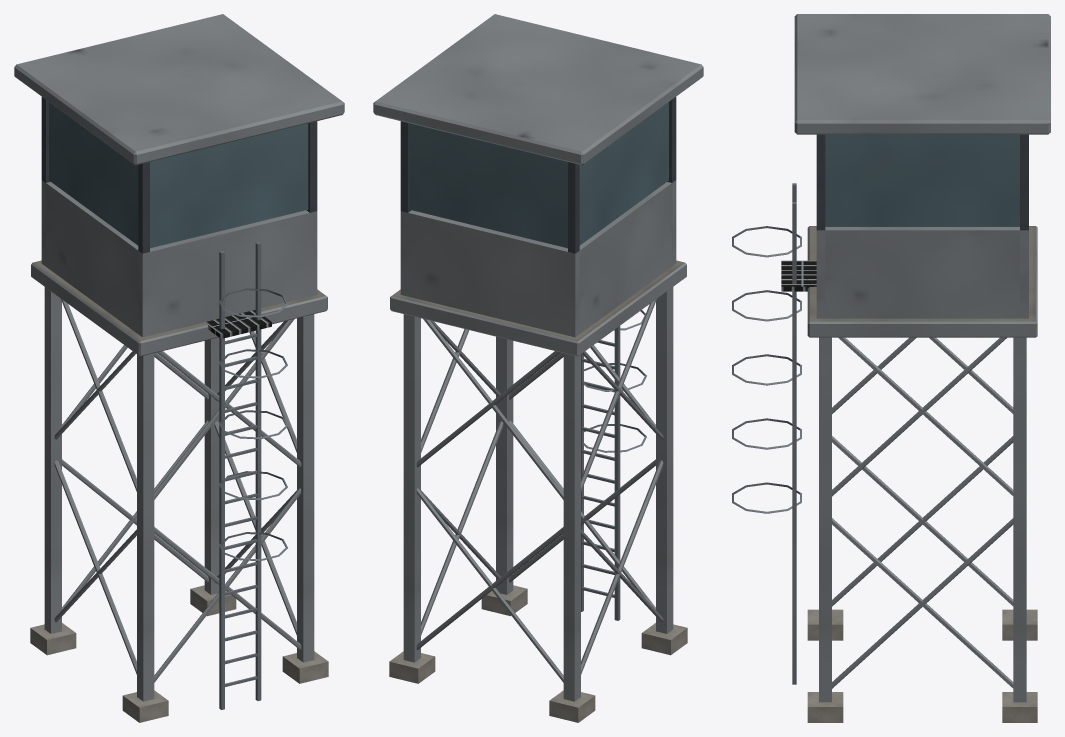
The model's file is watchtower.fbx.
3 renders of one model, left to right at view 1: azimuth 30°, elevation 25°; view 2: azimuth 150°, elevation 25°; view 3: azimuth 270°, elevation 25°, orthographic. The views are drawn at different scales.
Visible parts, largest first — view 1: watchtower; view 2: watchtower; view 3: watchtower.
Part boxes in pixels (x1,y1,x2,y2): watchtower: [14, 14, 344, 722]; watchtower: [373, 14, 703, 722]; watchtower: [732, 14, 1050, 722].
Bounding box in the file's own units: 2.9 × 7.58 × 3.61.
1 material, 1 textured.
